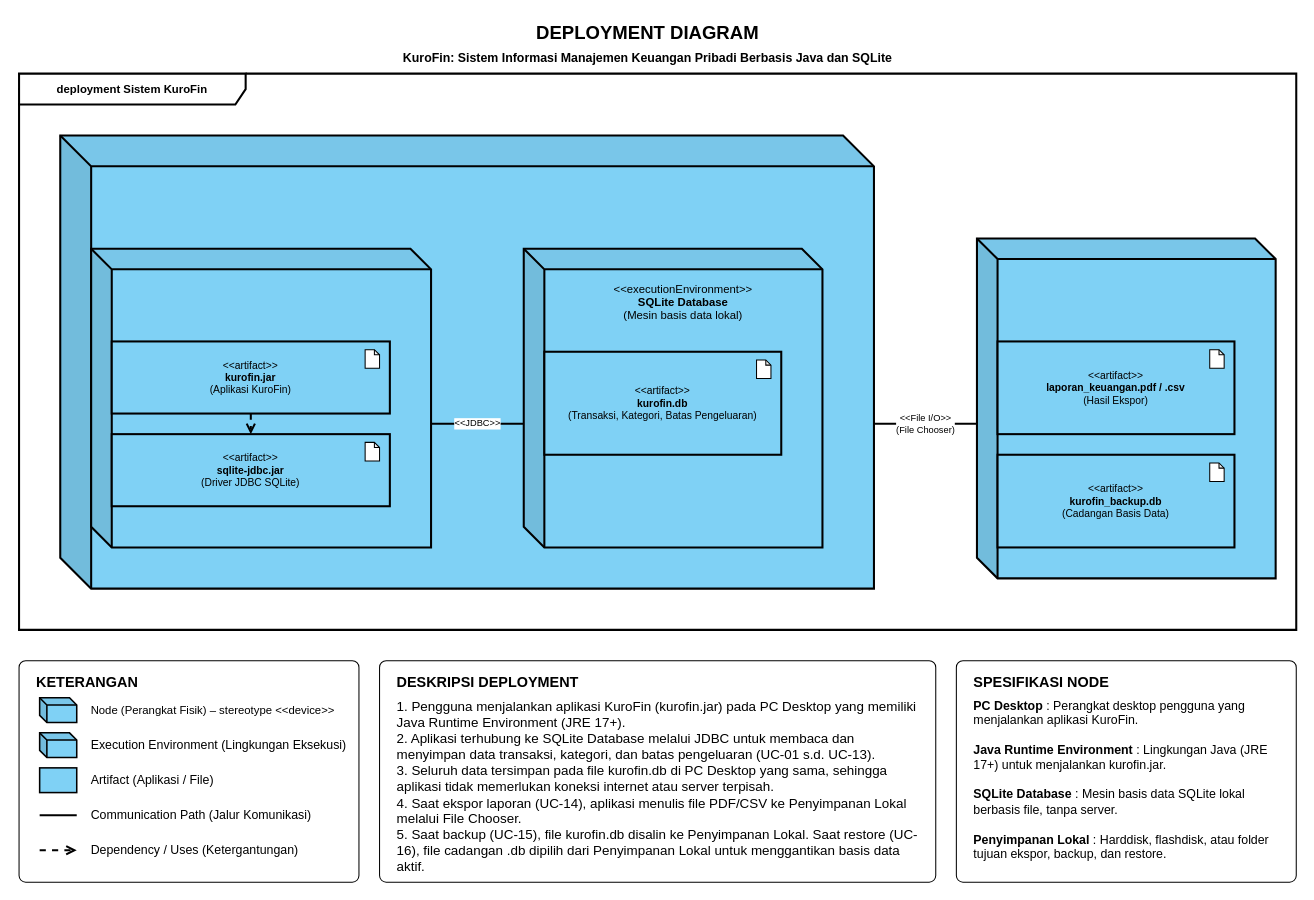
Image size: 1314x900. Some labels were removed from this diagram. The shapes that lost their labels are listed below. From the top down, each one's box as (x1, y1, x2, y2) in pixels, then its label:
(59, 134, 874, 589): <<device>> PC Desktop (Perangkat desktop pengguna)
(90, 247, 432, 548): <<executionEnvironment>> Java Runtime Environment (JRE 17+)
(975, 237, 1276, 579): <<device>> Penyimpanan Lokal (Harddisk / Flashdisk)
